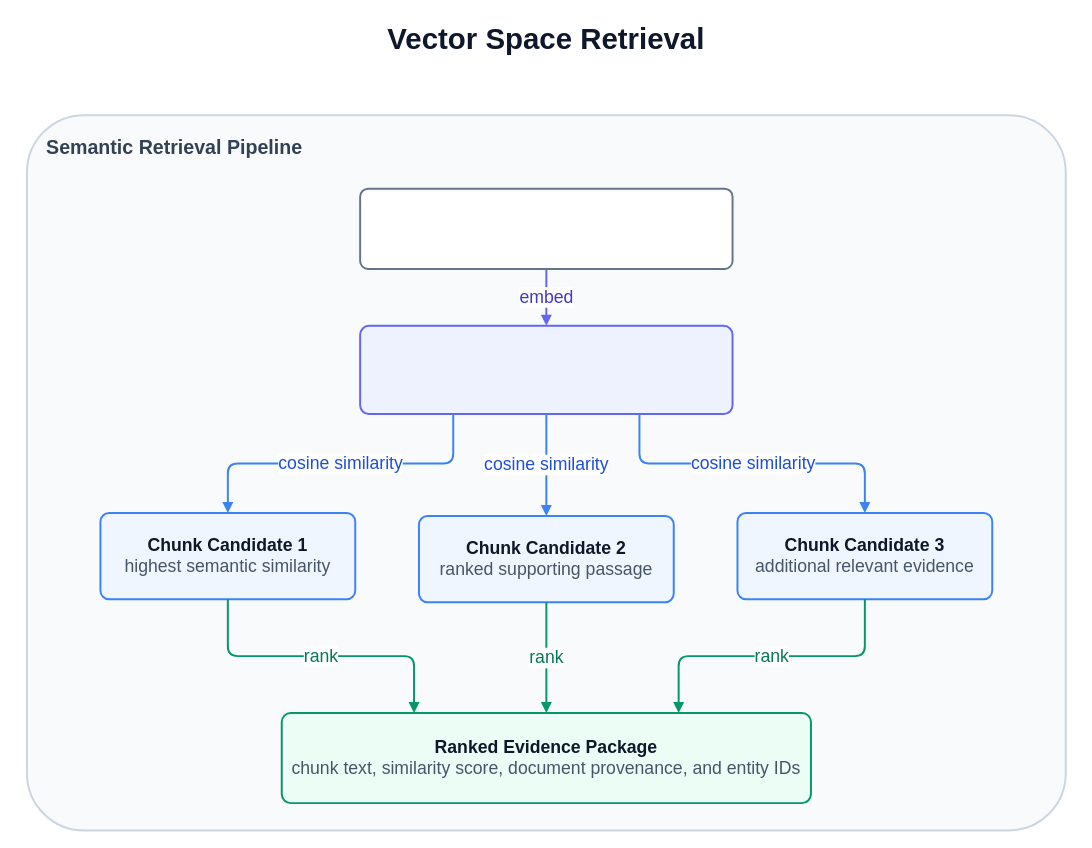
The diagram is 1092 pixels wide and 848 high, and some of its shapes have lost their labels. Each missing label, with the box of its shape:
Query Embedding Encode the question into vector space: (359, 324, 733, 415)
User Question Natural-language analytical query: (359, 187, 733, 270)
